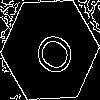O: (25, 25, 77, 80)
